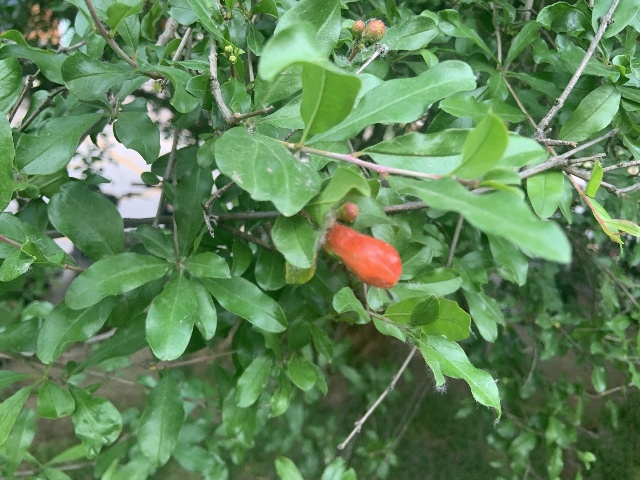bud: (323, 222, 402, 289), (366, 19, 386, 44), (336, 202, 358, 222), (351, 20, 365, 39)
